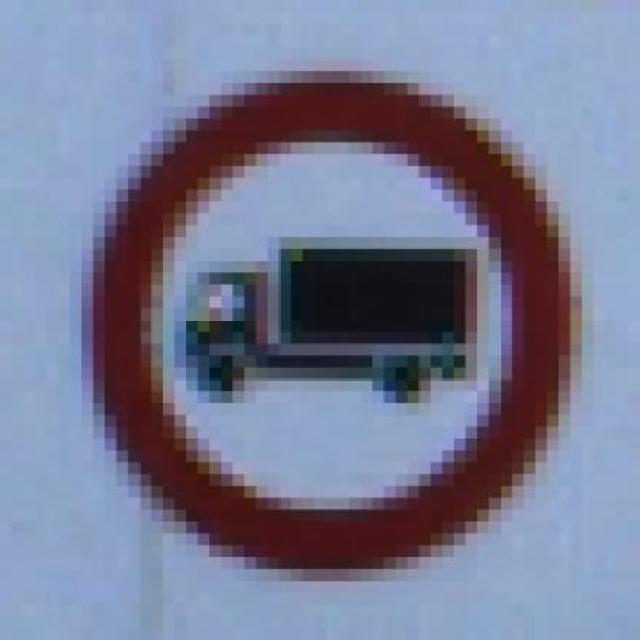Truck traffic is prohibited: (39, 71, 598, 569)
